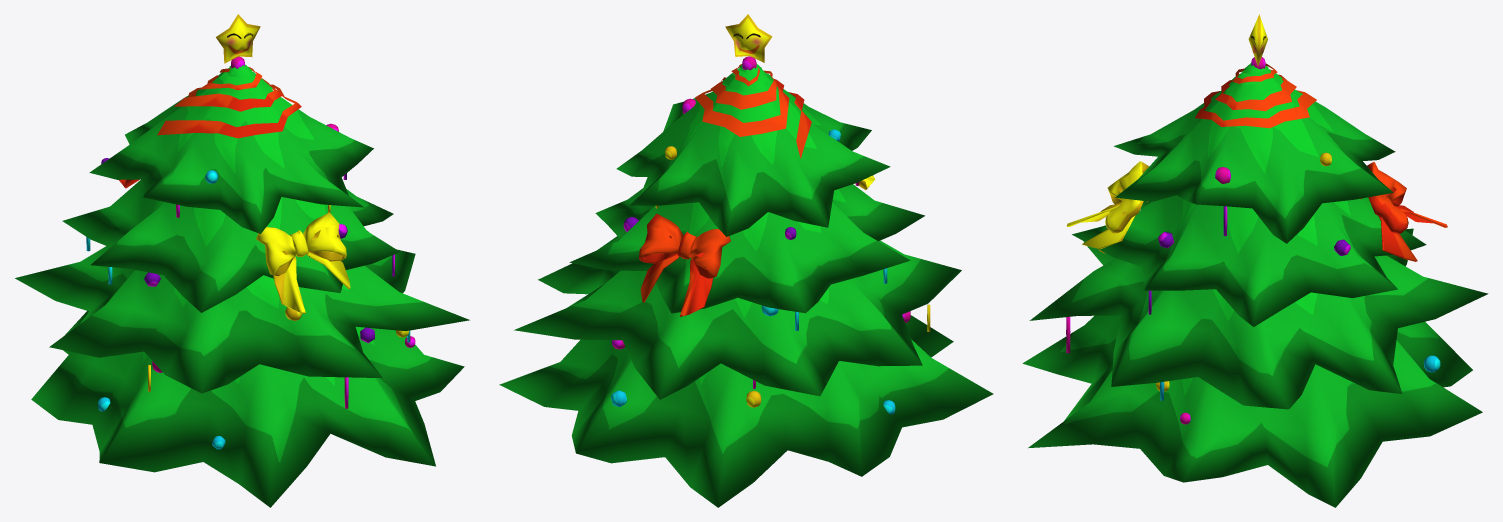
The model's file is c_tree_a.dae.
3 renders of one model, left to right at view 1: azimuth 30°, elevation 25°; view 2: azimuth 150°, elevation 25°; view 3: azimuth 270°, elevation 25°, orthographic.
Parts seen in each view (by area): view 1: objpolymsh4; view 2: objpolymsh4; view 3: objpolymsh4.
Part boxes in pixels (x1=…): objpolymsh4: x1=15, y1=14, x2=469, y2=507; objpolymsh4: x1=499, y1=14, x2=993, y2=507; objpolymsh4: x1=1022, y1=14, x2=1488, y2=507.
Size of the model in its own units: 344 by 346 by 338.
Materials: 1 (1 with a texture image).
